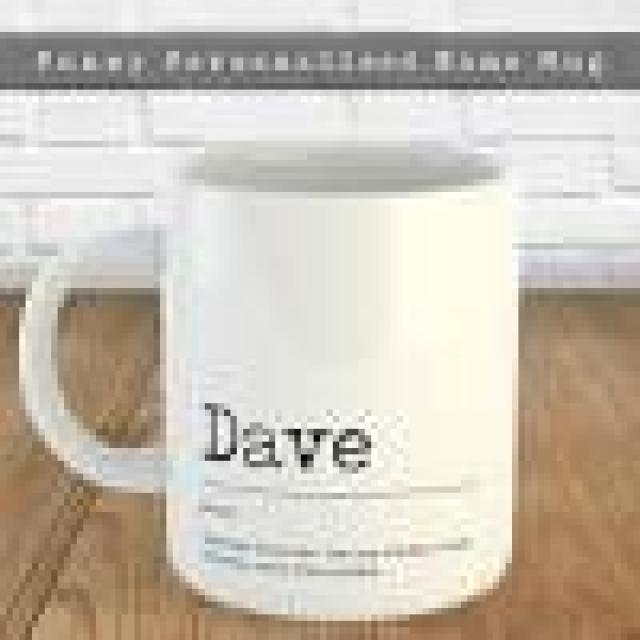taza: (9, 126, 528, 624)
